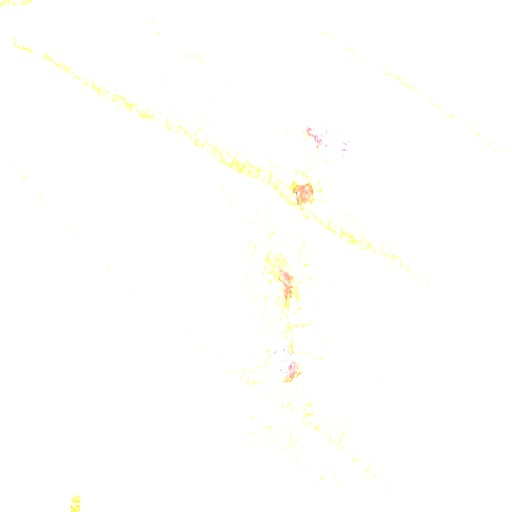Angular Leafspot: (33, 18, 379, 416)
